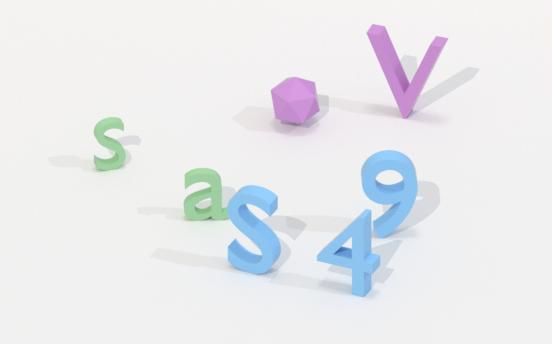4: (312, 209, 385, 296)
9: (359, 151, 421, 239)
a: (181, 167, 227, 226)
dagiac: (267, 76, 324, 126)
s: (224, 182, 287, 280), (90, 115, 130, 174)
v: (357, 25, 457, 118)
